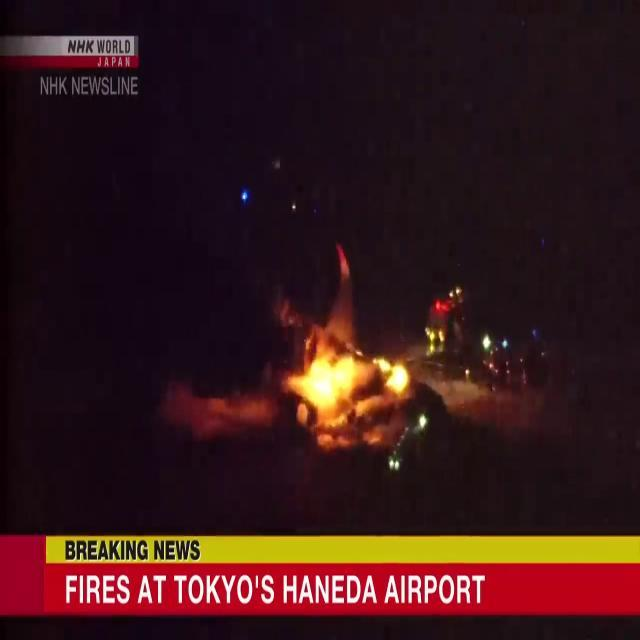Fire: (278, 333, 416, 425)
